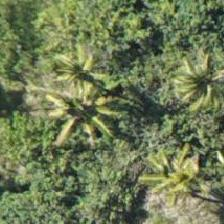coconut_tree: (30, 62, 120, 152), (132, 131, 222, 221), (159, 30, 223, 120)
